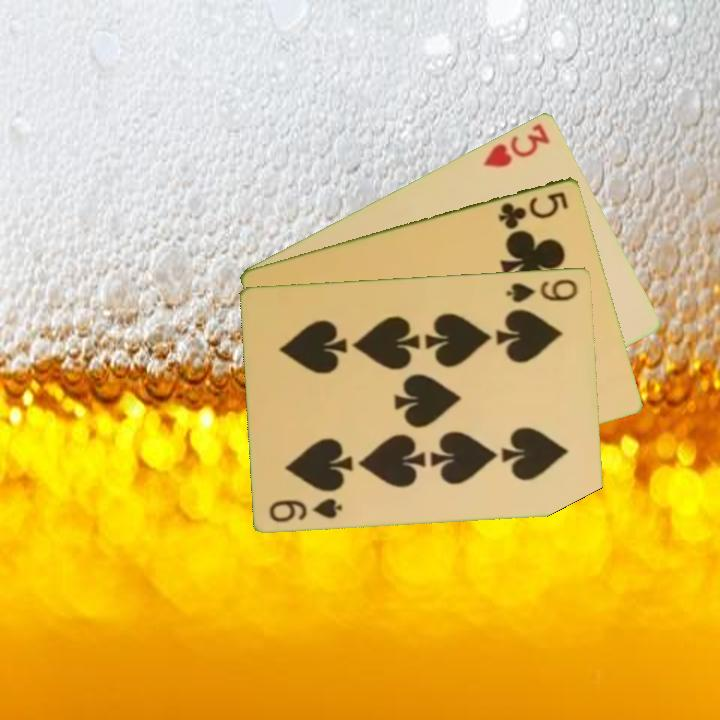3h: (479, 119, 553, 170)
5c: (494, 187, 572, 232)
9s: (266, 494, 346, 525), (502, 275, 581, 305)
